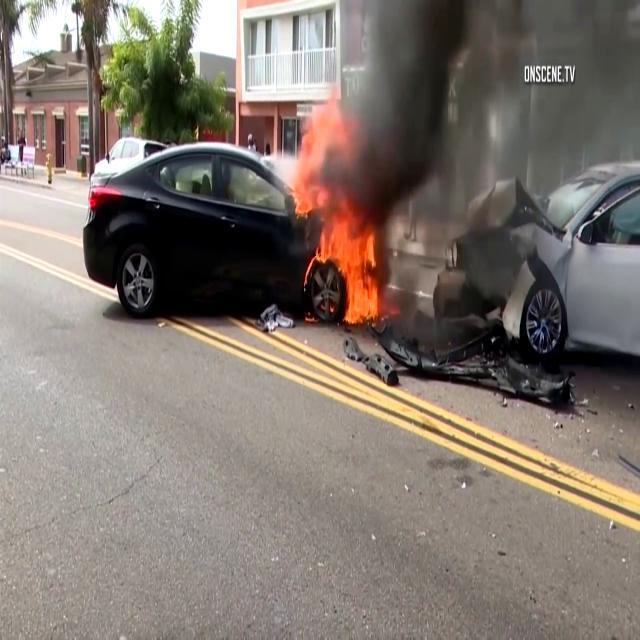Fire: (293, 113, 385, 327)
Smoke: (360, 9, 636, 327)
